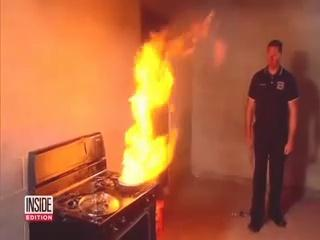Fire: (116, 50, 204, 186)
